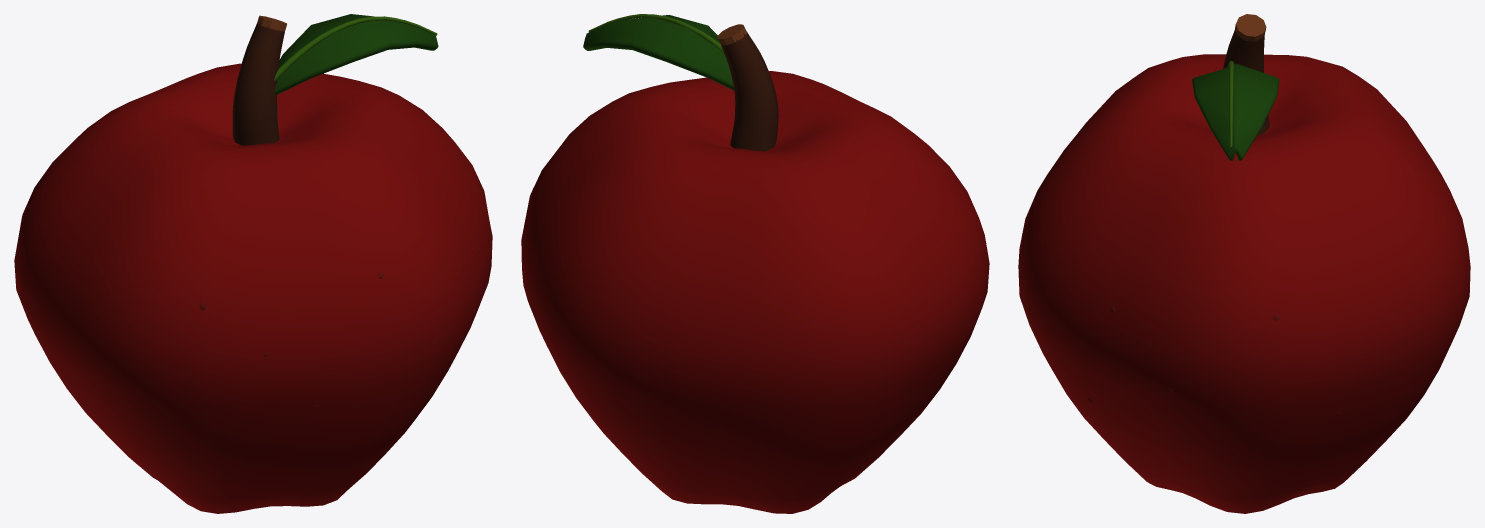
File: apple.glb
3 views of the same model, side by side, from view 1: azimuth 30°, elevation 25°; view 2: azimuth 150°, elevation 25°; view 3: azimuth 270°, elevation 25° (orthographic). The views are drawn at different scales.
Visible parts, largest first — view 1: apple; view 2: apple; view 3: apple.
Boxes of the visible parts, bbox=[...] form: apple: bbox=[14, 14, 492, 513]; apple: bbox=[521, 14, 989, 513]; apple: bbox=[1018, 14, 1470, 513].
Size of the model in its own units: 0.9542 by 1 by 0.8808.
Materials: 1 (1 with a texture image).
